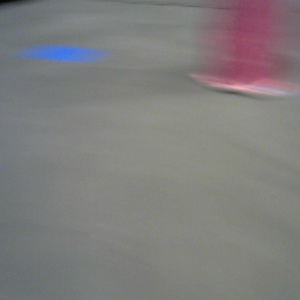Right: (195, 1, 300, 94)
